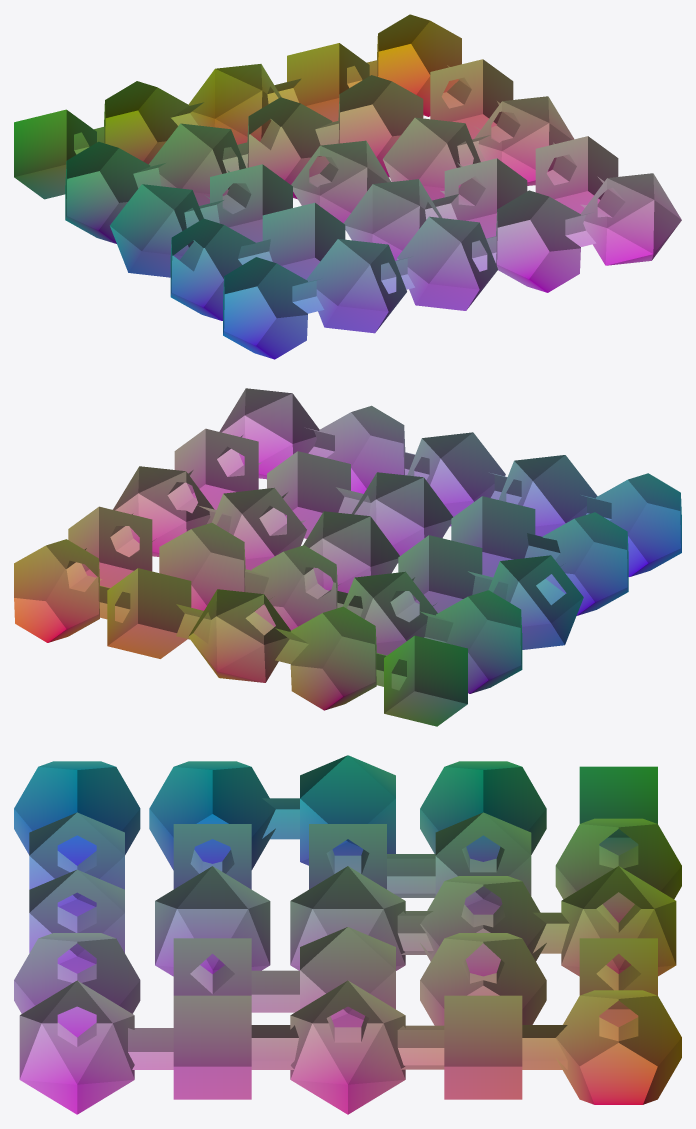
Rendered from Maze.gltf.
3 views of the same model, one above another, from view 1: azimuth 30°, elevation 25°; view 2: azimuth 150°, elevation 25°; view 3: azimuth 270°, elevation 25° (orthographic). The views are drawn at different scales.
Bounding box in the file's own units: 49.34 × 9.34 × 49.34.
